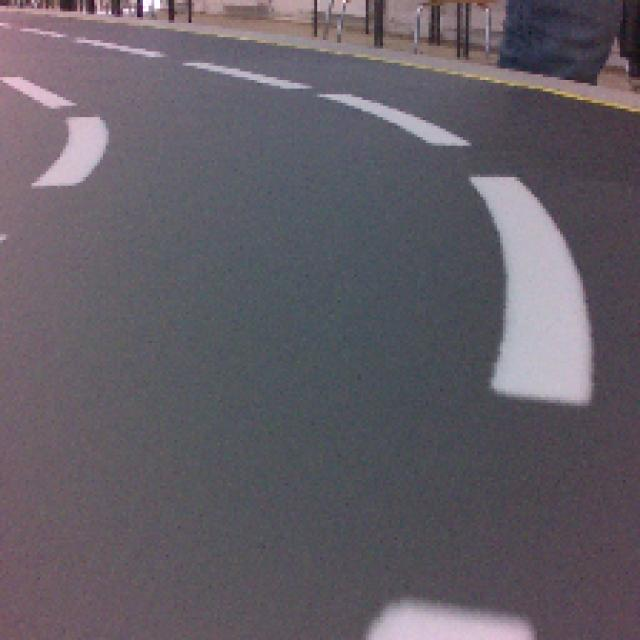Pedestrian crosswalk: (471, 176, 591, 407), (363, 602, 531, 640)
